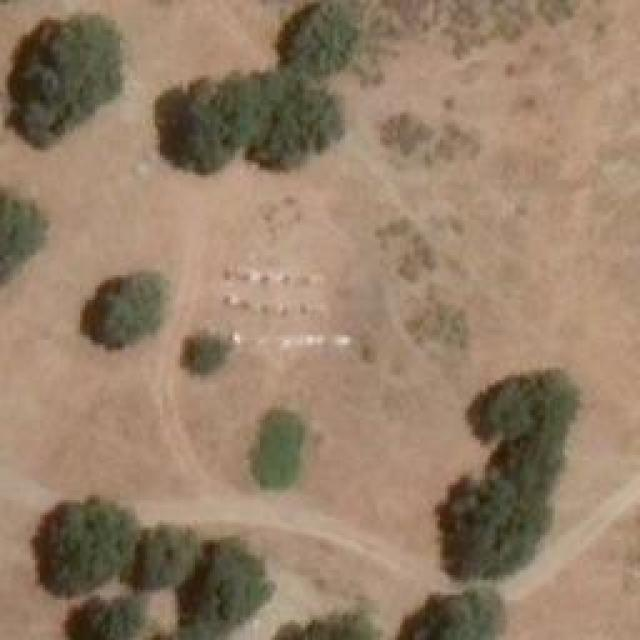Tree: (7, 12, 125, 140), (433, 475, 536, 575), (240, 70, 340, 173), (158, 73, 251, 173), (35, 500, 130, 595), (178, 548, 271, 628), (80, 275, 163, 348), (403, 580, 506, 638), (280, 0, 358, 75), (468, 373, 548, 446), (0, 190, 45, 288), (130, 525, 198, 588), (253, 410, 306, 485), (70, 595, 145, 640), (278, 608, 381, 640), (177, 328, 235, 378)
